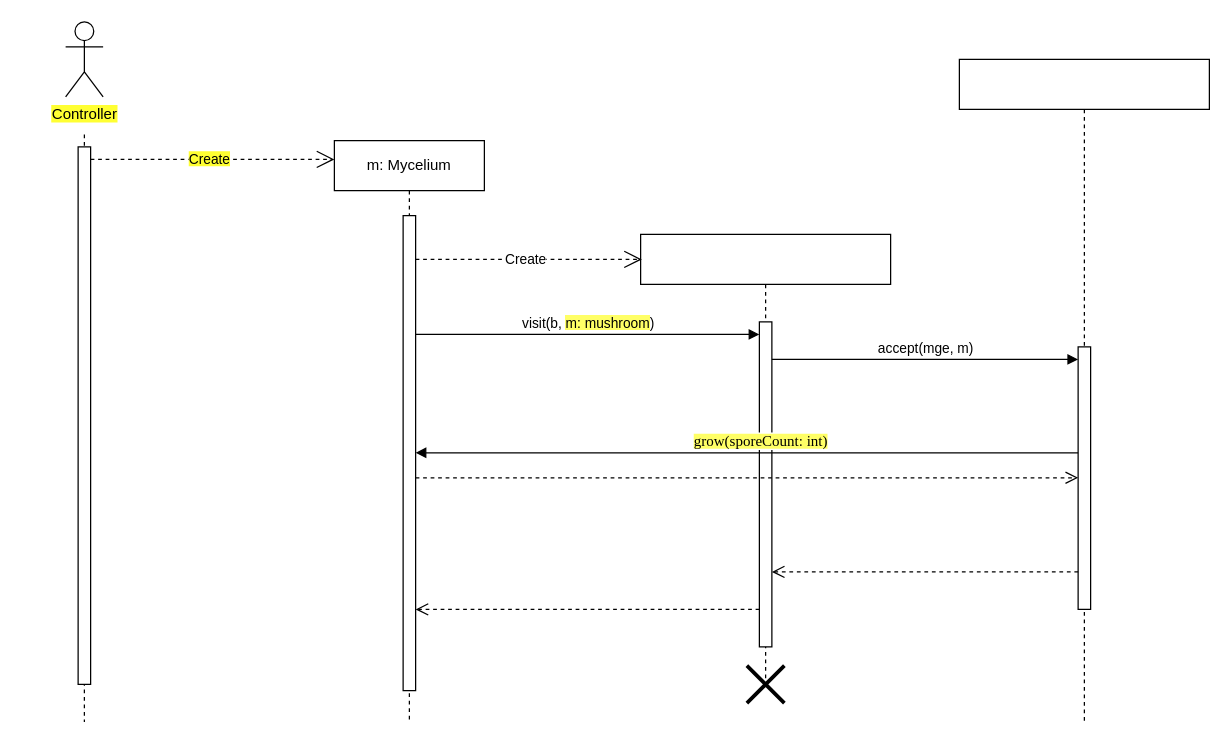
The diagram is 1231 pixels wide and 744 high, and some of its shapes have lost their labels. The shapes that lost their labels are listed below. From the top down, each one's box as (x1, y1, x2, y2) in pixels, then its label:
(958, 58, 1209, 722): b: Arid Tecton
(639, 233, 891, 684): mge: MyceliumGrowthEvaluator
